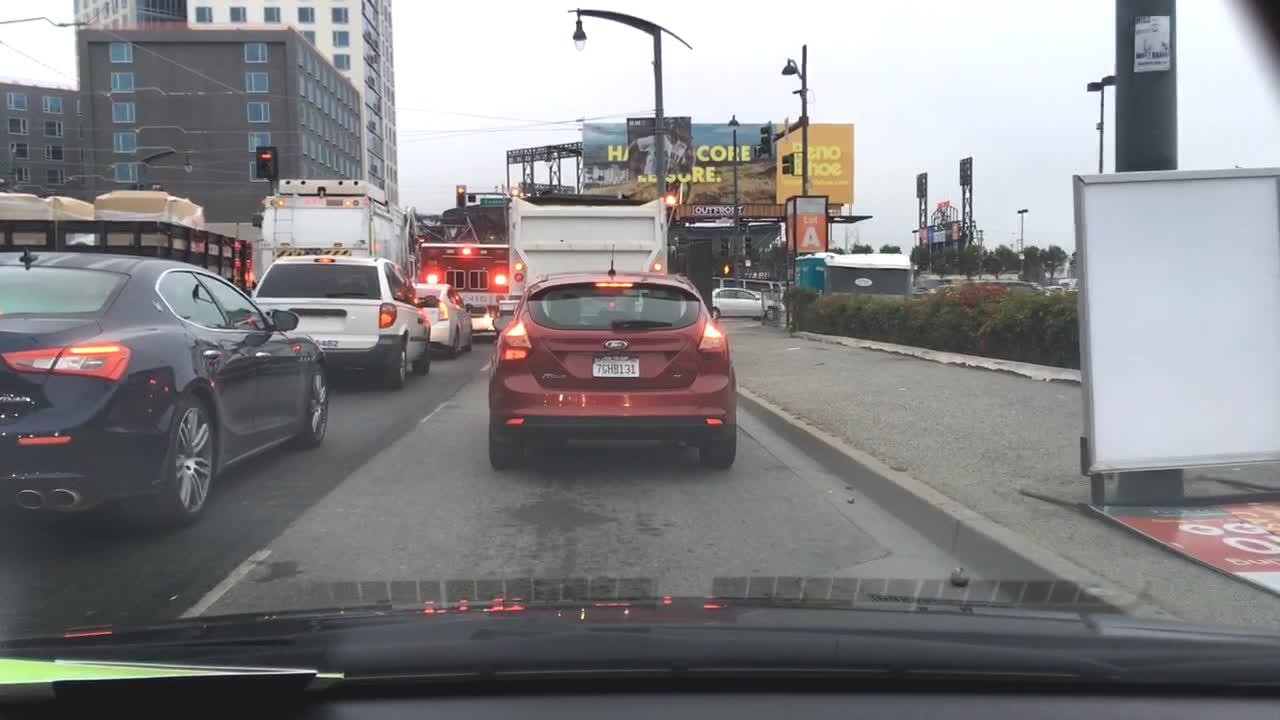ford: (604, 337, 633, 352)
